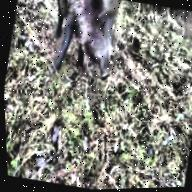boar: (40, 0, 137, 84)
